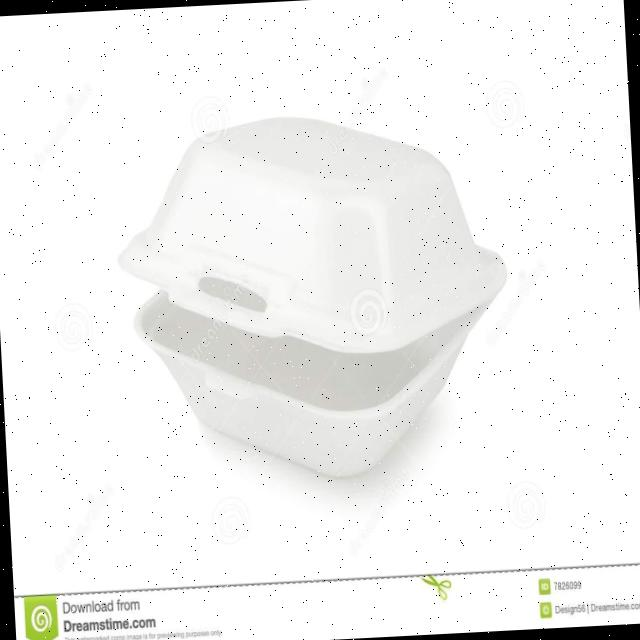styrofoam: (110, 102, 518, 490)
